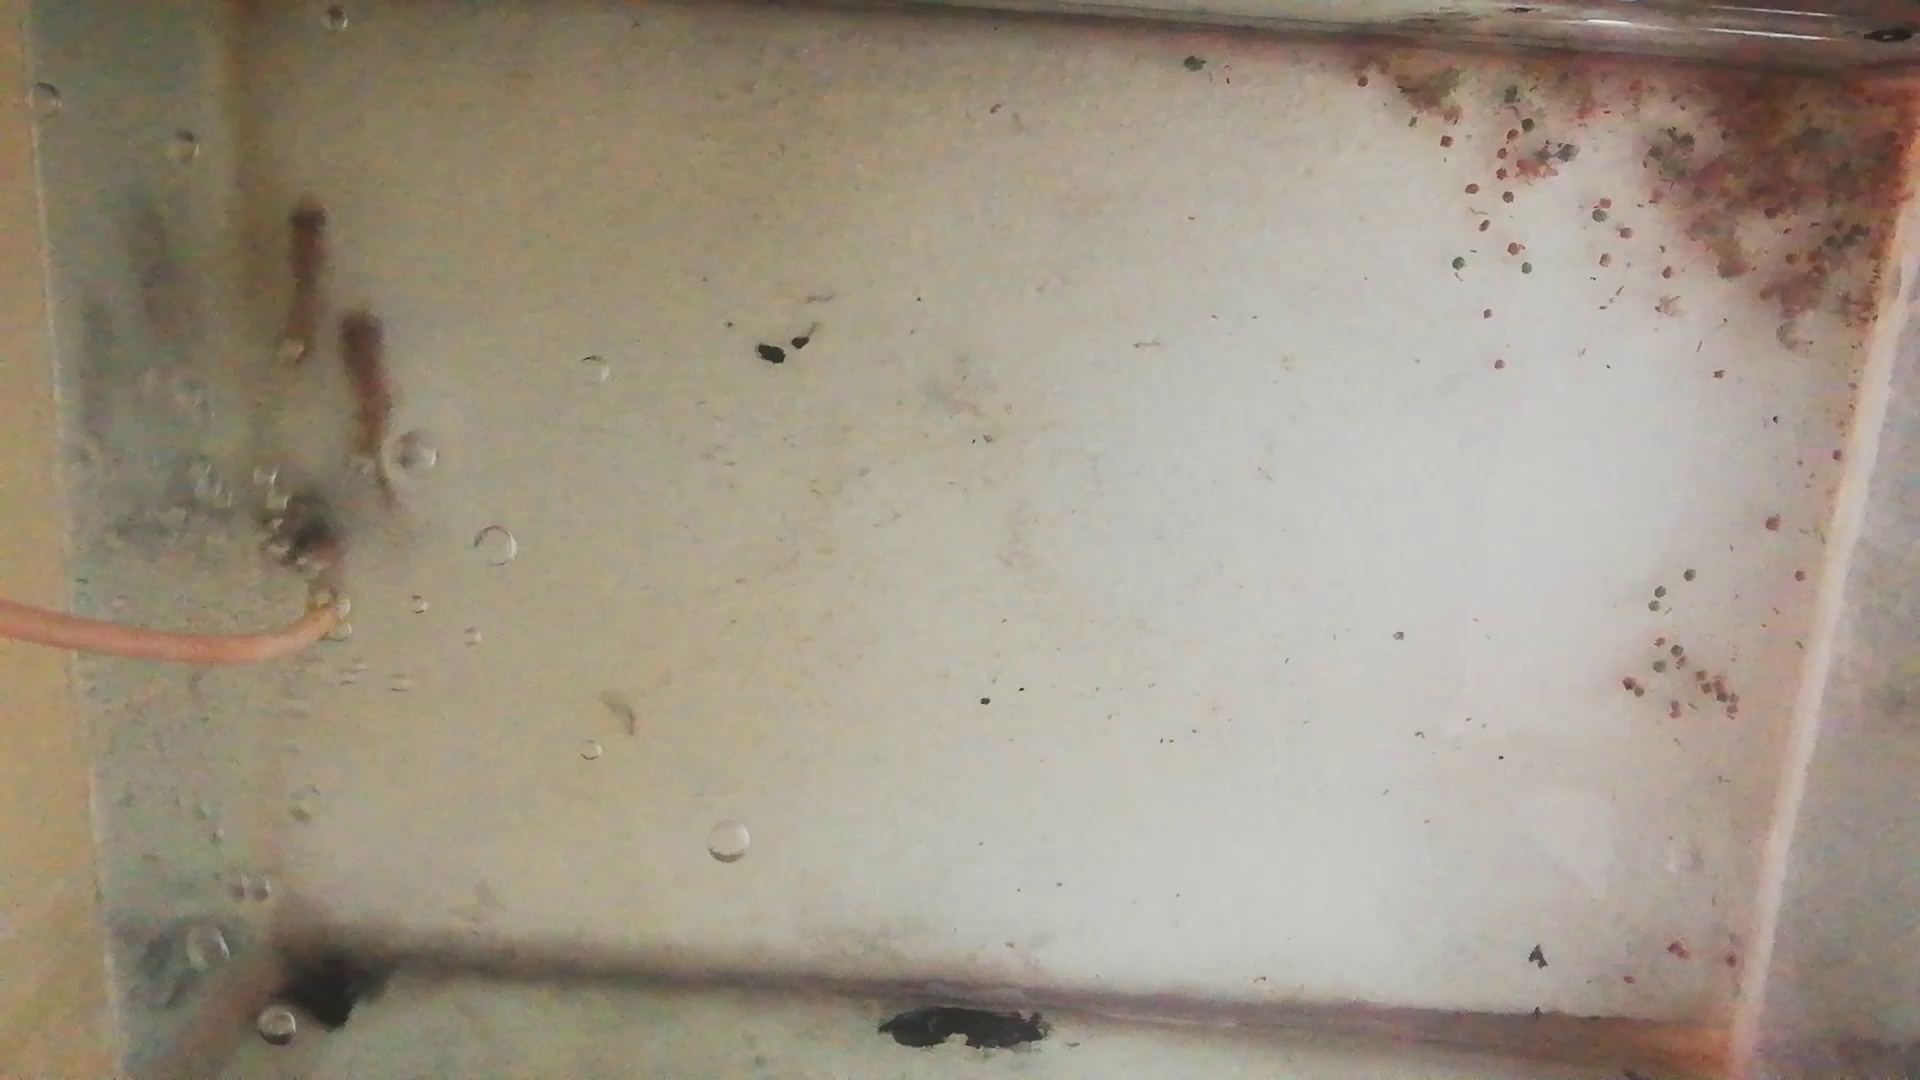fish: (331, 303, 396, 495), (280, 193, 334, 360)
